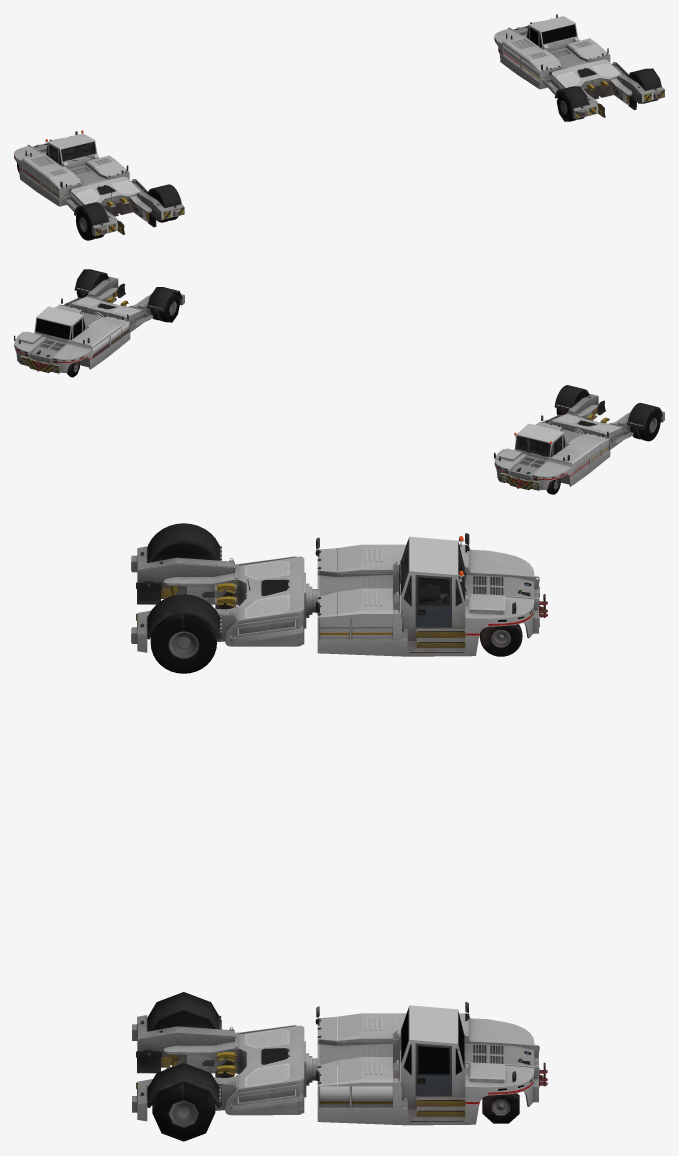
Rendered from pushback_tug.glb.
3 renders of one model, top to bottom at view 1: azimuth 30°, elevation 25°; view 2: azimuth 150°, elevation 25°; view 3: azimuth 270°, elevation 25°, orthographic. The views are drawn at different scales.
Parts seen in each view (by area): view 1: SM_BackWheel_L_LOD0_Material_0, SM_Door_L_LOD0_Glass_0; view 2: SM_BackWheel_L_LOD0_Material_0, SM_Door_L_LOD0_Glass_0; view 3: SM_BackWheel_L_LOD0_Material_0, SM_Door_L_LOD0_Glass_0.
Part boxes in pixels (x1=…): SM_BackWheel_L_LOD0_Material_0: x1=14, y1=14, x2=664, y2=240; SM_Door_L_LOD0_Glass_0: x1=47, y1=142, x2=95, y2=164; SM_BackWheel_L_LOD0_Material_0: x1=14, y1=269, x2=664, y2=494; SM_Door_L_LOD0_Glass_0: x1=516, y1=436, x2=564, y2=456; SM_BackWheel_L_LOD0_Material_0: x1=131, y1=523, x2=547, y2=1141; SM_Door_L_LOD0_Glass_0: x1=402, y1=543, x2=464, y2=605.
Bounding box in the file's own units: 28.48 × 2 × 9.02.
2 materials, 2 textured.
